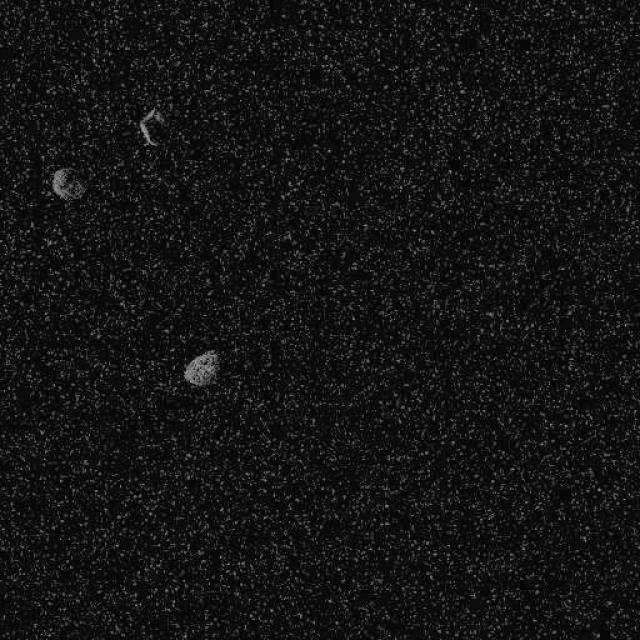D2: (182, 348, 220, 388), (50, 166, 86, 202), (137, 106, 165, 148)
